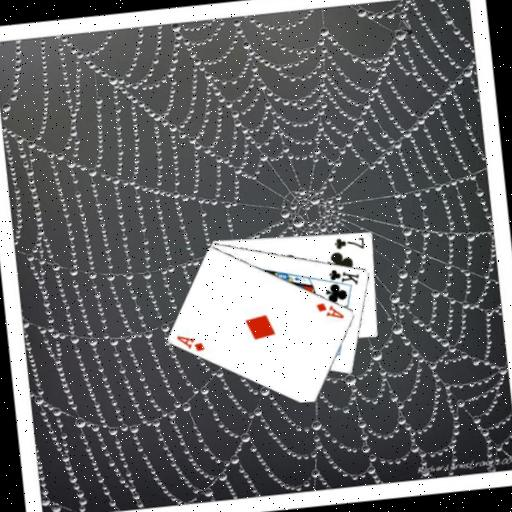7C: (331, 233, 367, 253)
AD: (313, 297, 347, 323), (173, 330, 207, 356)
KC: (321, 264, 362, 291)
